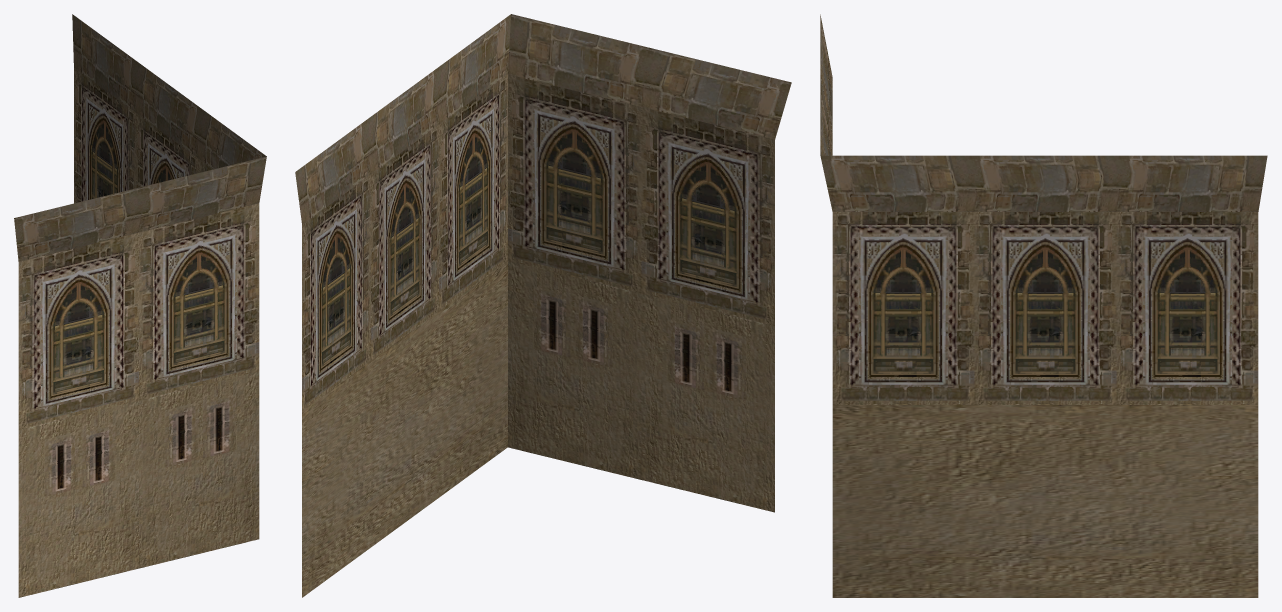
File: M7Z2_WallSection3C_Inner.glb
The picture shows the model from 3 angles, left to right: view 1: azimuth 30°, elevation 25°; view 2: azimuth 150°, elevation 25°; view 3: azimuth 270°, elevation 25°; orthographic projection. The views are drawn at different scales.
Parts seen in each view (by area): view 1: M7Z2_WALLSECTION3C_INNER; view 2: M7Z2_WALLSECTION3C_INNER; view 3: M7Z2_WALLSECTION3C_INNER.
Boxes of the visible parts, left/top/right/bottom form: M7Z2_WALLSECTION3C_INNER: left=14, top=14, right=266, bottom=597; M7Z2_WALLSECTION3C_INNER: left=295, top=14, right=791, bottom=597; M7Z2_WALLSECTION3C_INNER: left=820, top=14, right=1267, bottom=597.
Size of the model in its own units: 6.3 by 9.19 by 8.4.
Materials: 4 (4 with a texture image).
